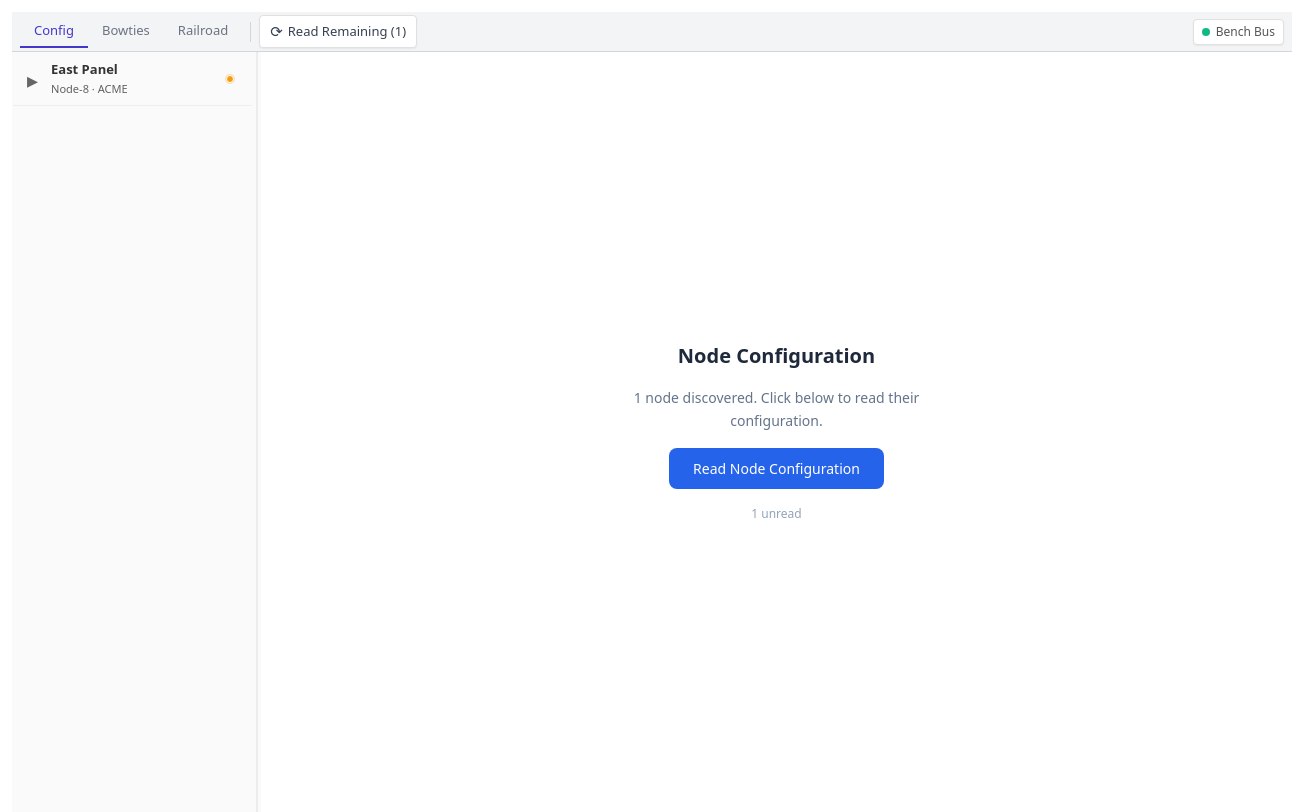
Test case: +page route discovery CTA › shows a CDI error banner instead of the download prompt when preflight fails for another reason
Click the button "Read Node Configuration": (776, 468) [669,448,884,489]
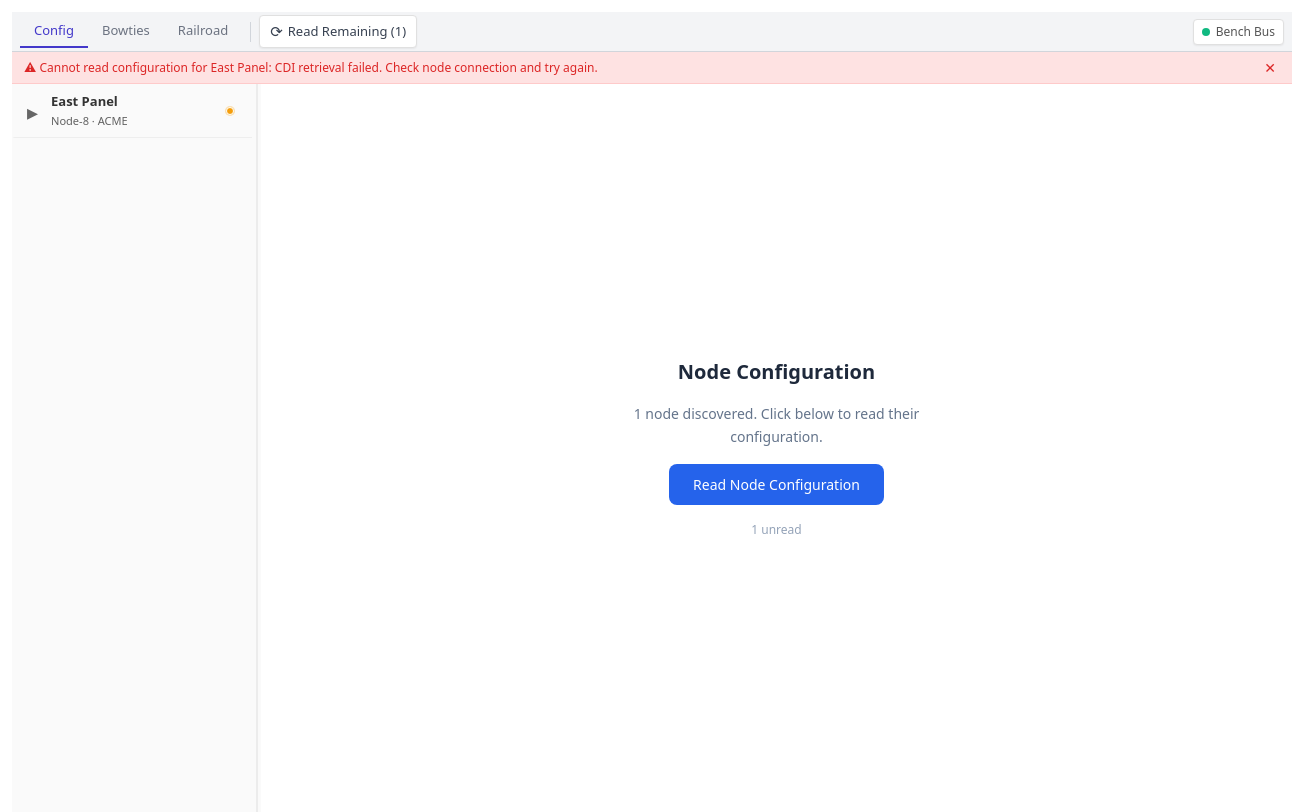
Now the message shows "Cannot read configuration for East Panel: CDI retrieval failed. Check node connection and try again.", box [24,58,598,76]
